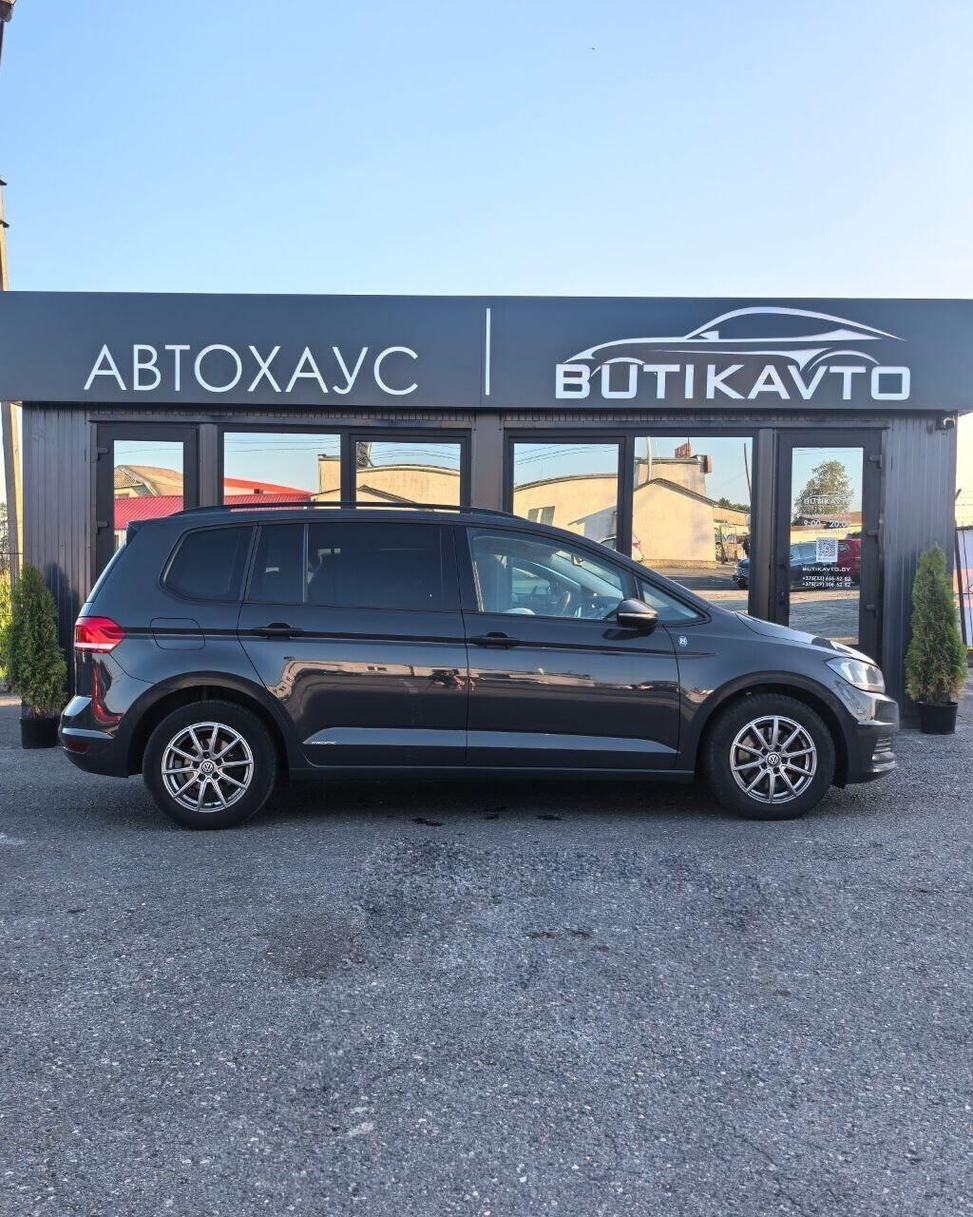Touran_2015: (48, 504, 903, 822)
